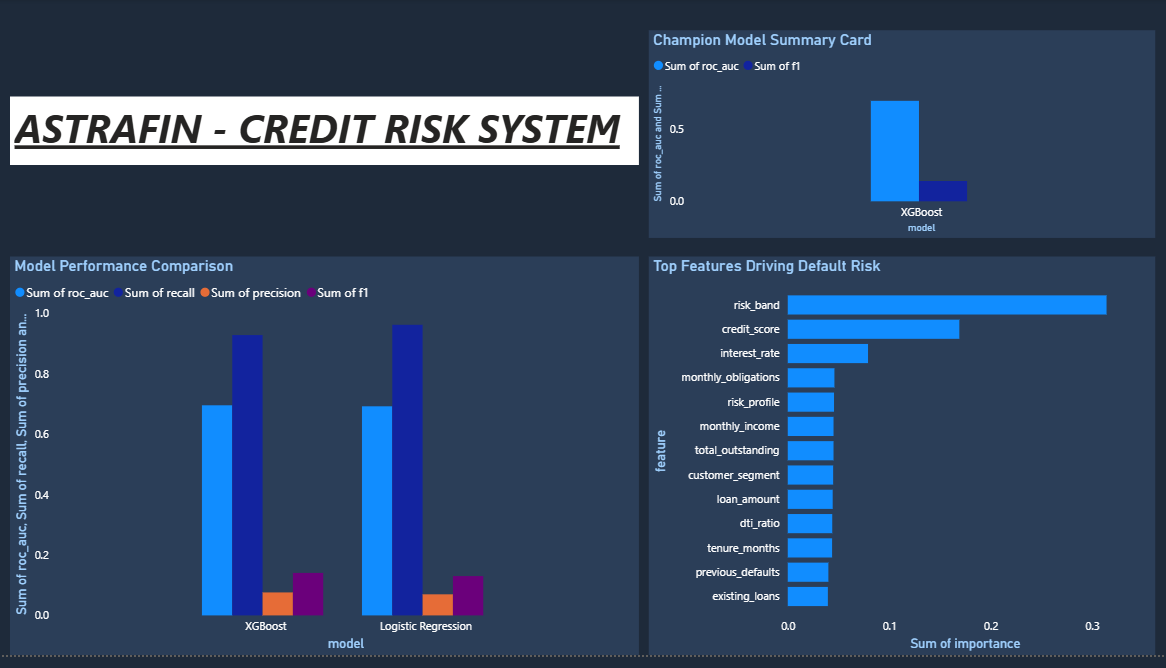

This screenshot's page, from the dashboard's own definition file:
{"tool":"powerbi","page":{"name":"Model Monitoring Dashboard","canvas":[1280,720],"ordinal":3},"visuals":[{"type":"barChart","title":"Top Features Driving Default Risk","fields":{"Category":["feature_importance.feature"],"Y":["Sum(feature_importance.importance)"]},"box":[712.2,282.7,555.7,437.7],"z":0},{"type":"clusteredColumnChart","title":"Model Performance Comparison","fields":{"Y":["Sum(model_comparison.roc_auc)","Sum(model_comparison.recall)","Sum(model_comparison.precision)","Sum(model_comparison.f1)"],"Category":["model_comparison.model"]},"box":[11,282.7,690.2,437.7],"z":1000},{"type":"clusteredColumnChart","title":"Champion Model Summary Card","fields":{"Category":["champion_model.model"],"Y":["Sum(champion_model.roc_auc)","Sum(champion_model.f1)"]},"box":[712.2,34.3,555.7,227.8],"z":2000},{"type":"textbox","box":[11,107,690.2,75.5],"z":2001}]}

Visuals, with their boxes in screenshot pixels (x1, y1, x2, y2), scaled from the page's 1280x720 canvas onto the 1166x668 screenshot:
"Top Features Driving Default Risk" barChart: {"left": 649, "top": 262, "right": 1155, "bottom": 667}
"Model Performance Comparison" clusteredColumnChart: {"left": 10, "top": 262, "right": 639, "bottom": 667}
"Champion Model Summary Card" clusteredColumnChart: {"left": 649, "top": 32, "right": 1155, "bottom": 243}
textbox: {"left": 10, "top": 99, "right": 639, "bottom": 169}
